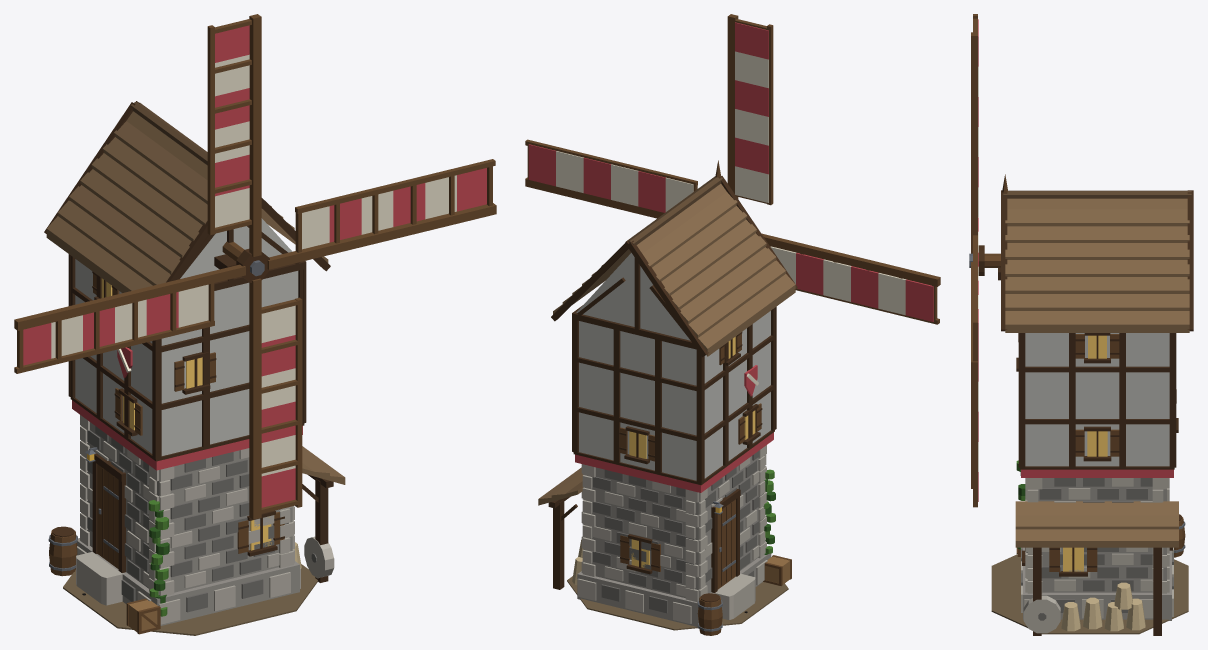
The model's file is mill_4.obj.
3 renders of one model, left to right at view 1: azimuth 30°, elevation 25°; view 2: azimuth 150°, elevation 25°; view 3: azimuth 270°, elevation 25°, orthographic. The views are drawn at different scales.
Visible parts, largest first — view 1: Sails.Canvas, Roof, Upper, Sails.Spar, Wall.Stone, Sails.Rail, Sails.Bar, Walls, Timber.Post, Wall.Quoin, Ground, Base (+17 smaller); view 2: Upper, Sails.Canvas, Roof, Wall.Stone, Timber.Post, Walls, Wall.Quoin, Sails.Spar, Gable, Timber.Rail, Gable.Barge, Sails.Rail (+17 smaller); view 3: Roof, Upper, Shed.Roof, Wall.Stone, Timber.Post, Ground, Walls, Sack, Sails.Spar, Timber.Rail, Roof.Ridge, Gable.Barge (+14 smaller).
Part boxes in pixels (left/top/right/bottom): Sails.Canvas: left=23, top=25, right=486, bottom=507; Roof: left=46, top=111, right=328, bottom=292; Upper: left=75, top=259, right=298, bottom=455; Sails.Spar: left=14, top=14, right=496, bottom=519; Wall.Stone: left=87, top=426, right=288, bottom=588; Sails.Rail: left=14, top=25, right=495, bottom=507; Sails.Bar: left=17, top=19, right=492, bottom=513; Walls: left=87, top=422, right=292, bottom=592; Timber.Post: left=68, top=254, right=306, bottom=459; Wall.Quoin: left=80, top=415, right=294, bottom=595; Ground: left=63, top=564, right=317, bottom=635; Base: left=77, top=538, right=299, bottom=625; Upper: left=579, top=311, right=770, bottom=480; Sails.Canvas: left=528, top=22, right=933, bottom=321; Roof: left=553, top=184, right=795, bottom=356; Wall.Stone: left=593, top=451, right=763, bottom=596; Timber.Post: left=572, top=306, right=776, bottom=483; Walls: left=584, top=455, right=764, bottom=597; Wall.Quoin: left=581, top=445, right=766, bottom=602; Sails.Spar: left=525, top=14, right=940, bottom=286; Gable: left=576, top=253, right=690, bottom=340; Timber.Rail: left=574, top=335, right=774, bottom=441; Gable.Barge: left=551, top=176, right=797, bottom=357; Sails.Rail: left=525, top=24, right=939, bottom=324; Roof: left=1005, top=198, right=1189, bottom=332; Upper: left=1025, top=333, right=1169, bottom=466; Shed.Roof: left=1015, top=501, right=1178, bottom=547; Wall.Stone: left=1026, top=478, right=1162, bottom=591; Timber.Post: left=1018, top=333, right=1176, bottom=467; Ground: left=991, top=554, right=1188, bottom=634; Walls: left=1028, top=478, right=1166, bottom=592; Sack: left=1061, top=582, right=1145, bottom=631; Sails.Spar: left=971, top=32, right=977, bottom=488; Timber.Rail: left=1022, top=366, right=1172, bottom=424; Roof.Ridge: left=1003, top=190, right=1191, bottom=198; Gable.Barge: left=1001, top=190, right=1193, bottom=331.
Size of the model in its own units: 10.4 by 12.75 by 4.68.
